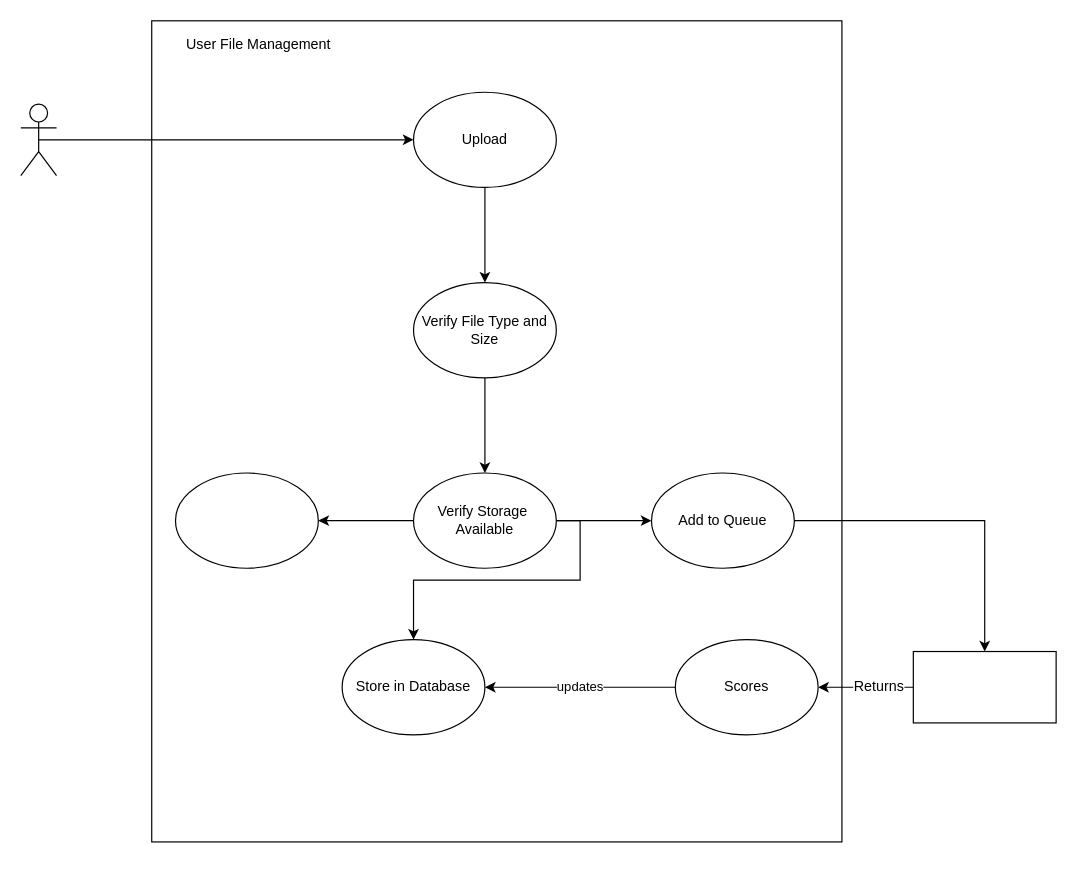
Some shapes in this 1077 by 872 pixel diagram are drawn without their labels. The shapes that lost their labels are listed below. From the top down, each one's centre as x and y in pixels, then its label:
At [38,139]: "User".
At [246,520]: "Add to Storage".
At [984,686]: "Image Assessment".
